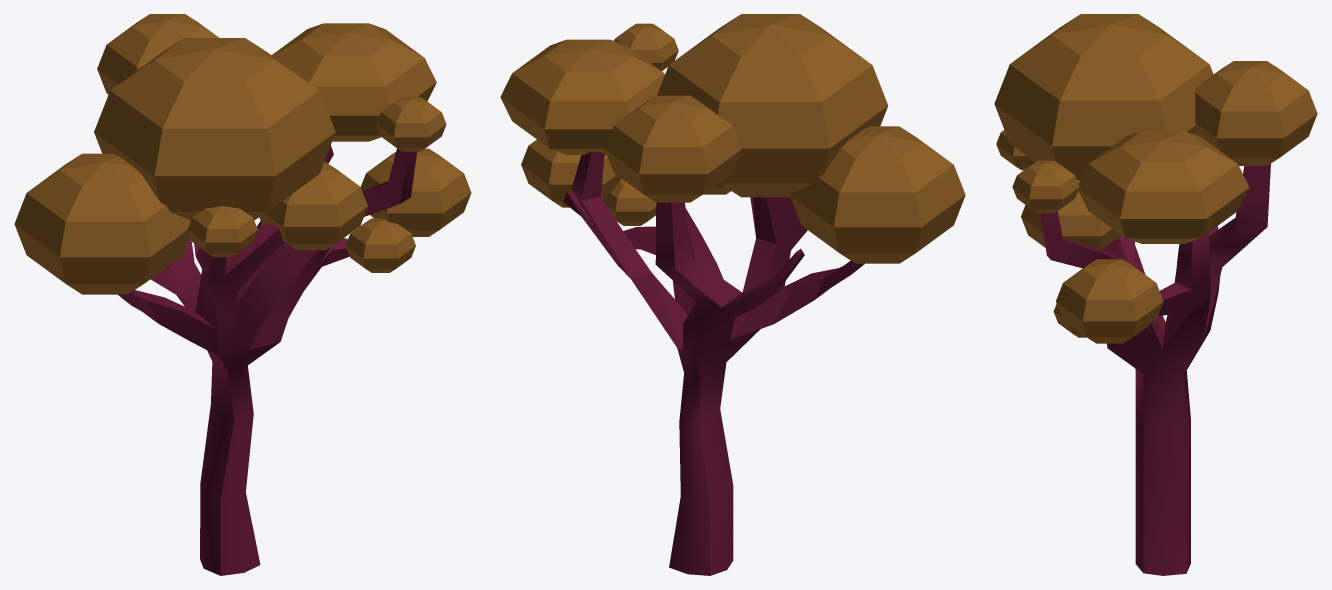
The model's file is arbolTarde1.fbx.
The picture shows the model from 3 angles, left to right: view 1: azimuth 30°, elevation 25°; view 2: azimuth 150°, elevation 25°; view 3: azimuth 270°, elevation 25°; orthographic projection. The views are drawn at different scales.
Visible parts, largest first — view 1: Sphere.002, pCube1, Sphere, Sphere.001, Sphere.003, Sphere.004, Sphere.007, Sphere.008, Sphere.005, Sphere.006; view 2: pCube1, Sphere.002, Sphere, Sphere.001, Sphere.007, Sphere.004, Sphere.008, Sphere.005; view 3: pCube1, Sphere.002, Sphere.001, Sphere.007, Sphere.004, Sphere.008, Sphere.003, Sphere.006.
Boxes of the visible parts, left/top/right/bottom form: Sphere.002: left=94, top=38, right=335, bottom=220; pCube1: left=118, top=145, right=417, bottom=575; Sphere: left=14, top=153, right=190, bottom=294; Sphere.001: left=271, top=23, right=436, bottom=141; Sphere.003: left=259, top=162, right=367, bottom=250; Sphere.004: left=361, top=148, right=471, bottom=236; Sphere.007: left=97, top=14, right=218, bottom=94; Sphere.008: left=376, top=97, right=446, bottom=151; Sphere.005: left=345, top=218, right=415, bottom=272; Sphere.006: left=187, top=206, right=257, bottom=257; pCube1: left=563, top=151, right=864, bottom=575; Sphere.002: left=657, top=14, right=888, bottom=197; Sphere: left=789, top=126, right=965, bottom=263; Sphere.001: left=500, top=39, right=664, bottom=154; Sphere.007: left=605, top=95, right=741, bottom=202; Sphere.004: left=521, top=139, right=621, bottom=207; Sphere.008: left=614, top=23, right=678, bottom=70; Sphere.005: left=602, top=179, right=656, bottom=225; pCube1: left=1040, top=164, right=1270, bottom=575; Sphere.002: left=994, top=14, right=1213, bottom=180; Sphere.001: left=1078, top=131, right=1249, bottom=243; Sphere.007: left=1195, top=61, right=1317, bottom=165; Sphere.004: left=1056, top=259, right=1163, bottom=343; Sphere.008: left=1012, top=160, right=1079, bottom=213; Sphere.003: left=1021, top=180, right=1121, bottom=249; Sphere.006: left=996, top=130, right=1034, bottom=170.
Bounding box in the file's own units: 177 × 219 × 124.
